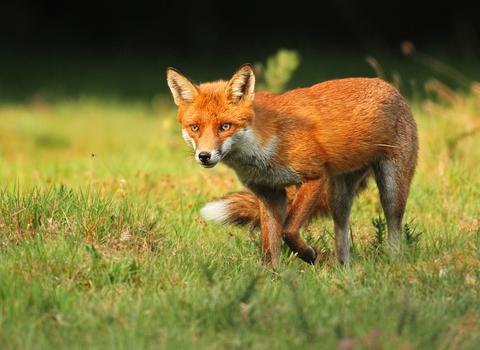fox: (109, 37, 459, 278)
